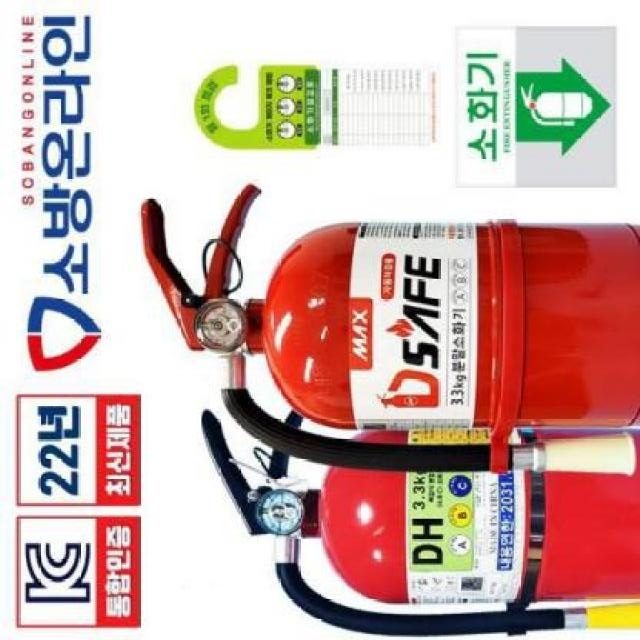fire extinguisher: (138, 181, 640, 477), (201, 407, 640, 639)
